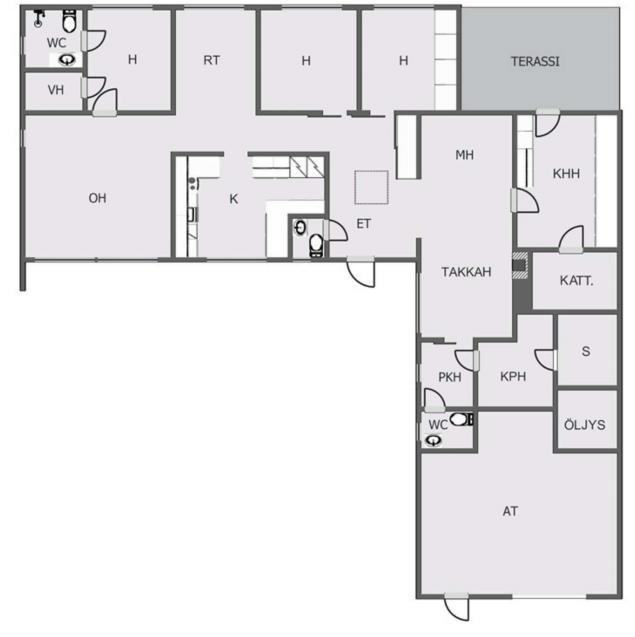bathroom: (25, 9, 84, 68), (419, 410, 473, 451), (286, 217, 326, 259)
door: (344, 252, 378, 290), (555, 224, 589, 257), (441, 590, 473, 625), (511, 183, 544, 216), (419, 383, 450, 416), (533, 108, 564, 140), (92, 88, 120, 120), (534, 345, 563, 373), (451, 346, 482, 372), (78, 74, 108, 100), (77, 27, 108, 52), (321, 219, 350, 244)
perimeter: (22, 4, 622, 600)
window: (505, 590, 595, 605), (29, 252, 99, 269), (200, 254, 272, 268), (96, 254, 162, 268), (275, 0, 347, 12), (87, 0, 159, 12), (413, 264, 424, 338), (180, 1, 250, 12), (369, 2, 436, 13), (16, 31, 28, 60), (17, 124, 29, 151), (413, 359, 422, 391), (414, 416, 423, 447)
